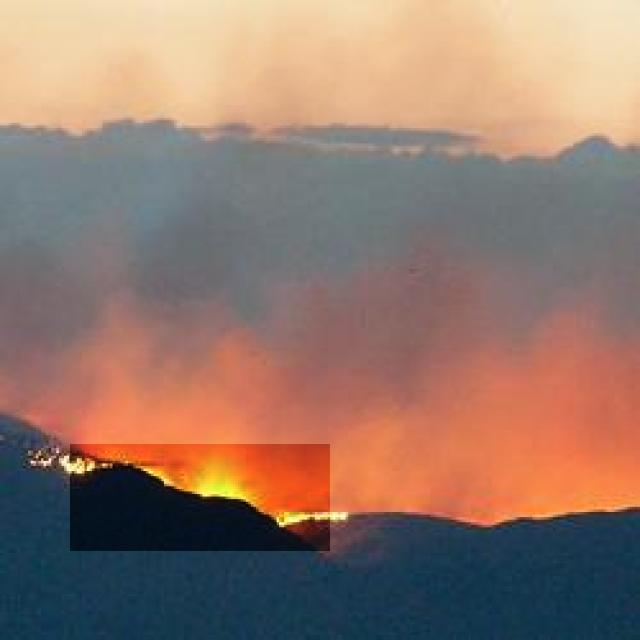Fire: (70, 444, 330, 551)
